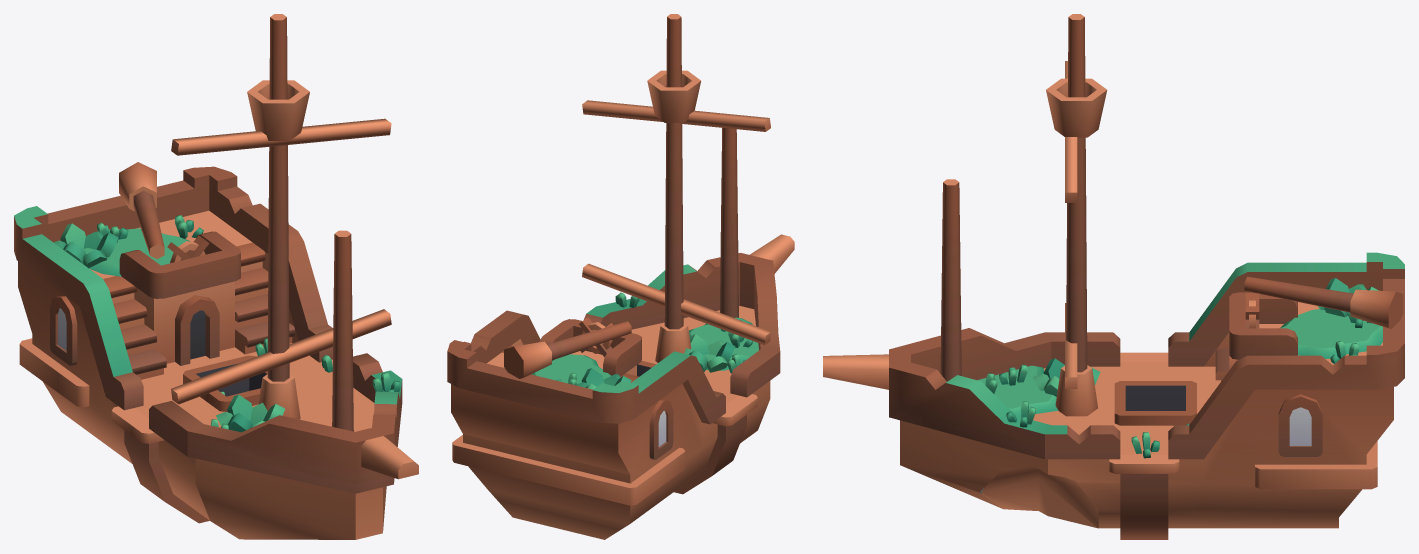
The model's file is kenney-pirate-kit-ship-wreck.glb.
3 views of the same model, side by side, from view 1: azimuth 30°, elevation 25°; view 2: azimuth 150°, elevation 25°; view 3: azimuth 270°, elevation 25° (orthographic). The views are drawn at different scales.
Parts seen in each view (by area): view 1: ship-wreck, sail-a, Group.002, Group.003, Group.004, Group.001; view 2: ship-wreck, sail-a, Group.002, Group.004, Group.001, Group, Group.003; view 3: ship-wreck, Group.002, Group.004, Group, sail-a, Group.001.
Part boxes in pixels (left/top/right/bottom): ship-wreck: left=14, top=14, right=418, bottom=539; sail-a: left=171, top=118, right=391, bottom=404; Group.002: left=119, top=162, right=164, bottom=259; Group.003: left=54, top=223, right=118, bottom=268; Group.004: left=83, top=228, right=190, bottom=276; Group.001: left=216, top=394, right=284, bottom=432; ship-wreck: left=447, top=14, right=794, bottom=539; sail-a: left=582, top=100, right=771, bottom=345; Group.002: left=504, top=321, right=631, bottom=378; Group.004: left=531, top=354, right=611, bottom=384; Group.001: left=684, top=334, right=735, bottom=372; Group: left=689, top=317, right=758, bottom=370; Group.003: left=576, top=368, right=631, bottom=389; ship-wreck: left=823, top=14, right=1404, bottom=539; Group.002: left=1244, top=276, right=1403, bottom=328; Group.004: left=1280, top=309, right=1382, bottom=358; Group: left=977, top=365, right=1058, bottom=416; sail-a: left=1065, top=61, right=1077, bottom=388; Group.001: left=1032, top=358, right=1100, bottom=396.
Size of the model in its own units: 2.04 by 4.23 by 4.5.
Materials: 1 (1 with a texture image).
